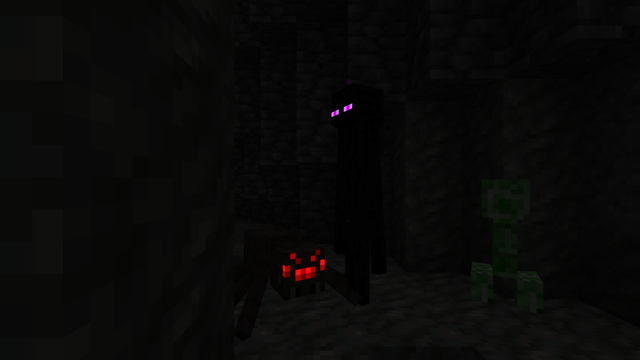araignees: (239, 224, 337, 328)
creepers: (468, 173, 544, 309)
endermens: (333, 77, 383, 309)
